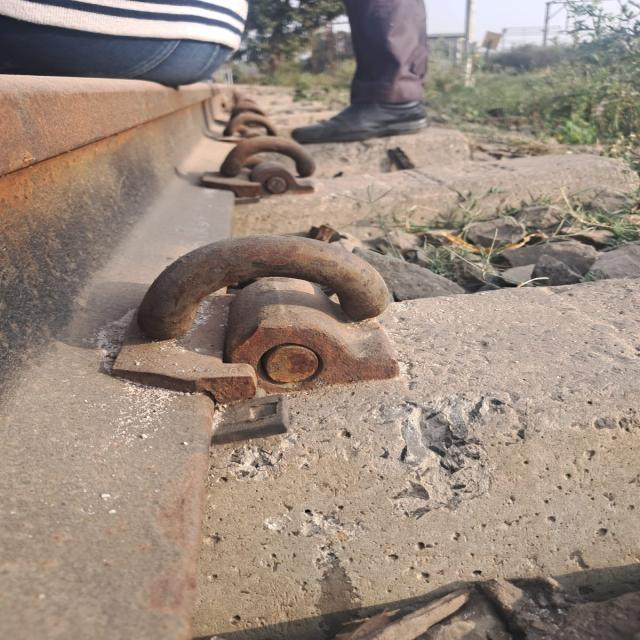overrailed: (102, 221, 520, 423)
